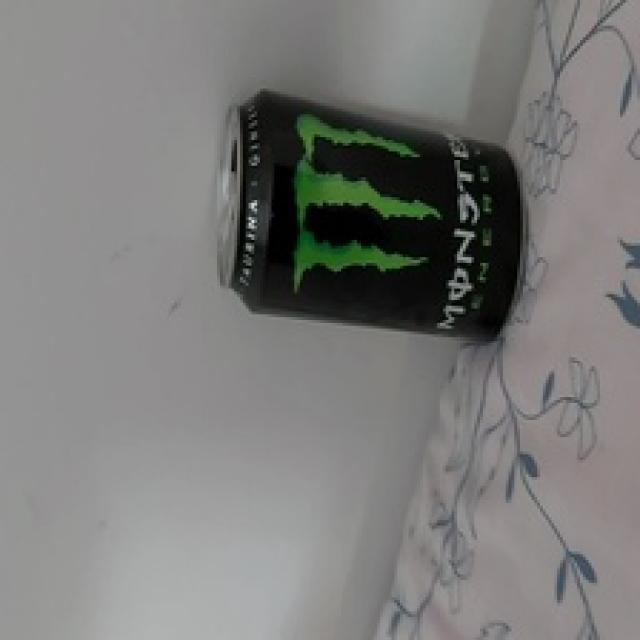recyclable: (207, 87, 532, 347)
